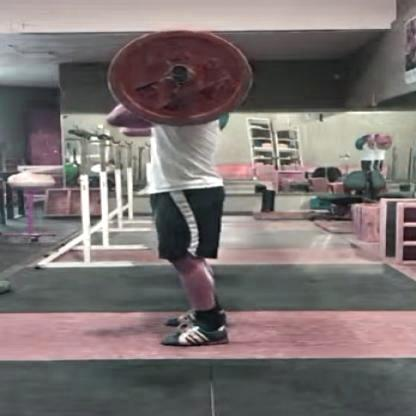Barbell: (164, 65, 196, 80)
